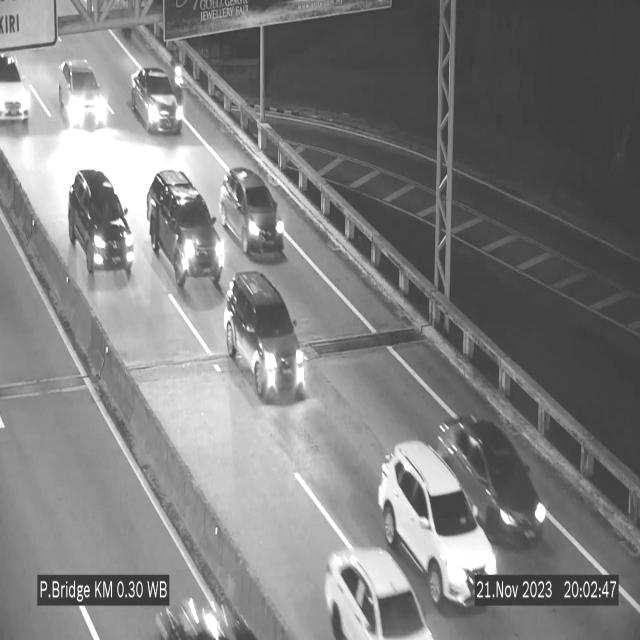Car: (378, 442, 498, 607), (444, 409, 546, 539), (148, 165, 226, 295), (225, 273, 302, 397), (67, 171, 142, 280), (219, 167, 286, 261), (60, 59, 112, 128), (130, 67, 184, 132), (0, 45, 36, 135)
